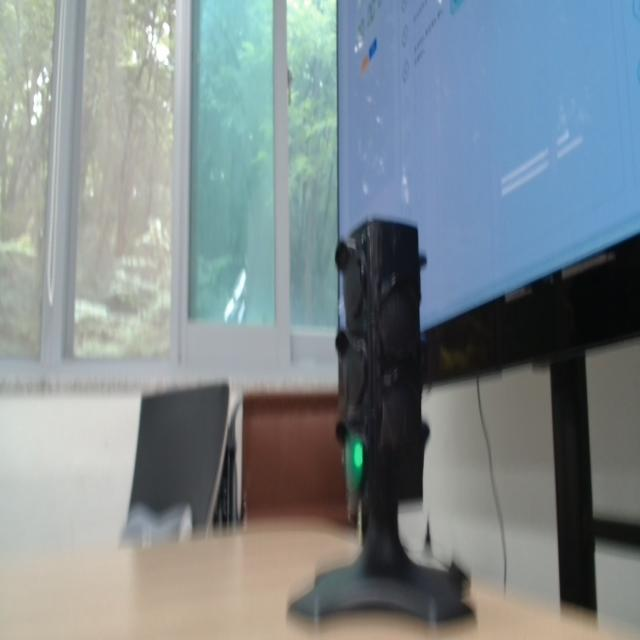green_light: (353, 442, 363, 469)
